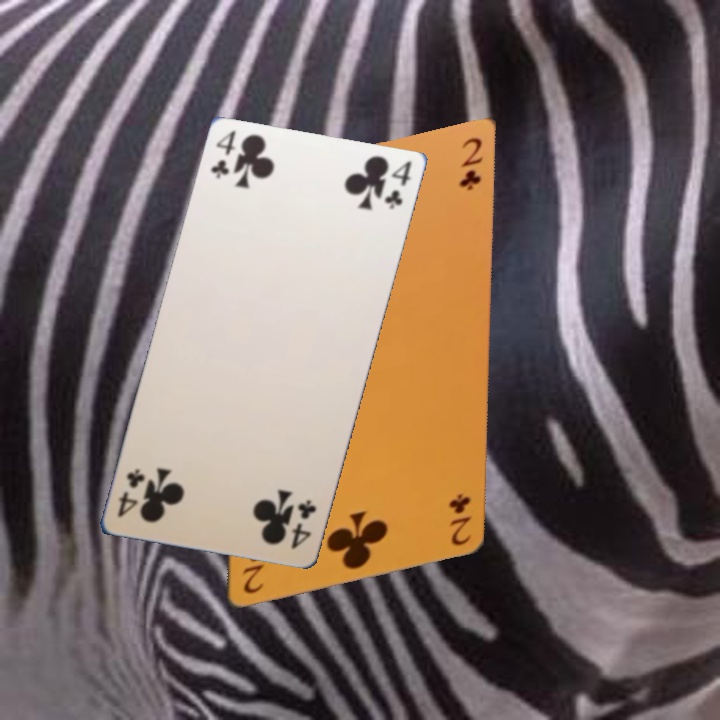2c: (446, 481, 474, 549), (456, 128, 483, 196)
4c: (110, 464, 148, 527), (377, 157, 415, 220), (284, 495, 322, 557), (204, 127, 242, 189)
